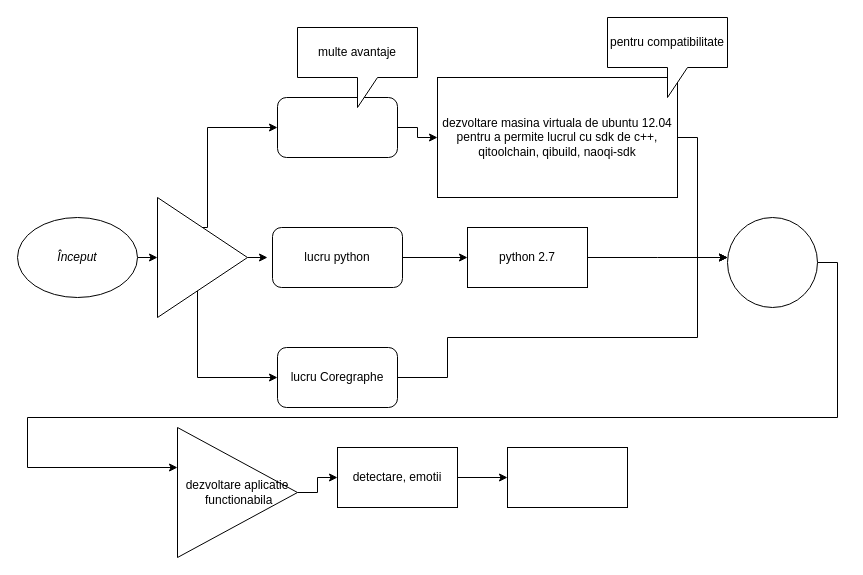
This 863x575 diagram has some shape labels left out. Here are the shapes that lost their labels. From the top down, the centre of each, then its label:
the point at 337,127: lucru c++
the point at 202,257: softuri necesare
the point at 772,262: programare robot nao
the point at 567,477: raspuns robot
